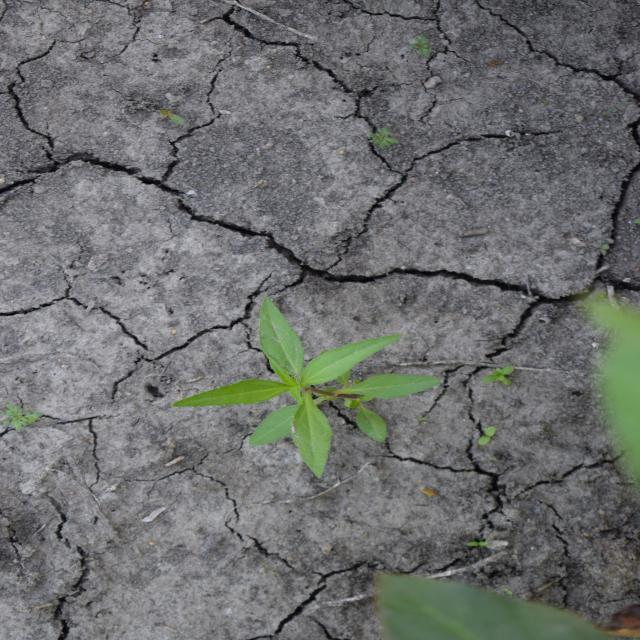Eclipta: (170, 296, 443, 480)
Ragweed: (2, 404, 44, 434)
